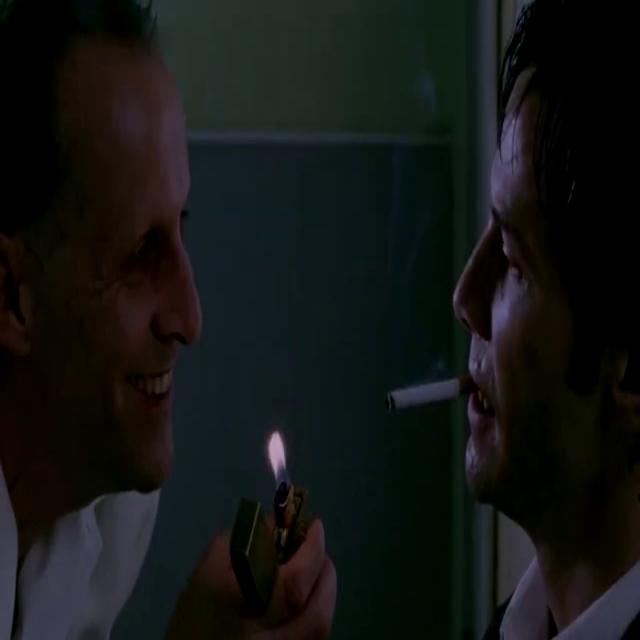Smooking: (377, 366, 477, 423)
